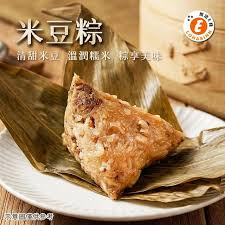zongzi: (64, 75, 183, 199)
